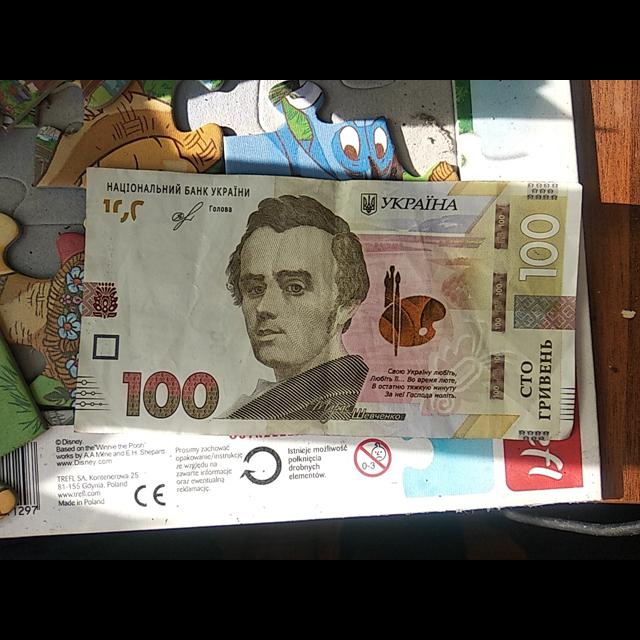100uah: (72, 165, 581, 441)
